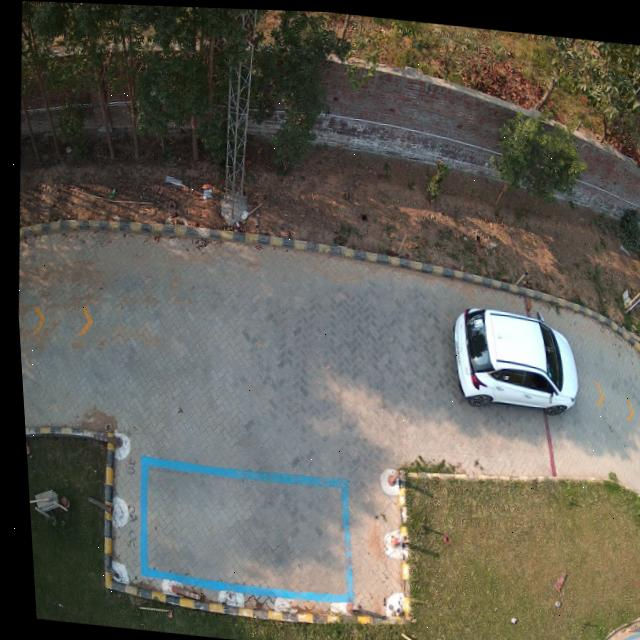car: (450, 305, 574, 407)
